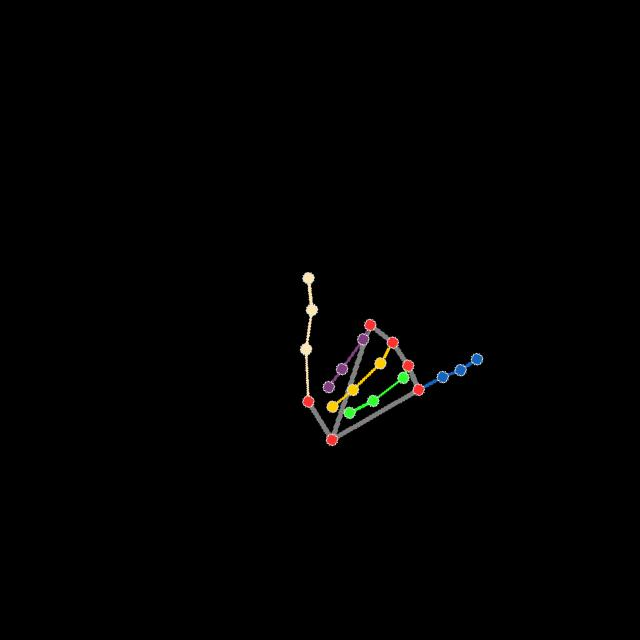skr: (295, 264, 487, 449)
